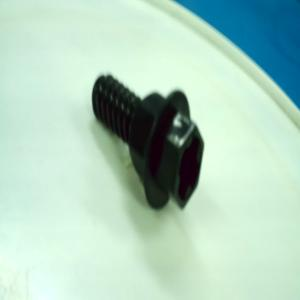parafuso: (90, 70, 206, 214), (91, 72, 206, 213)
